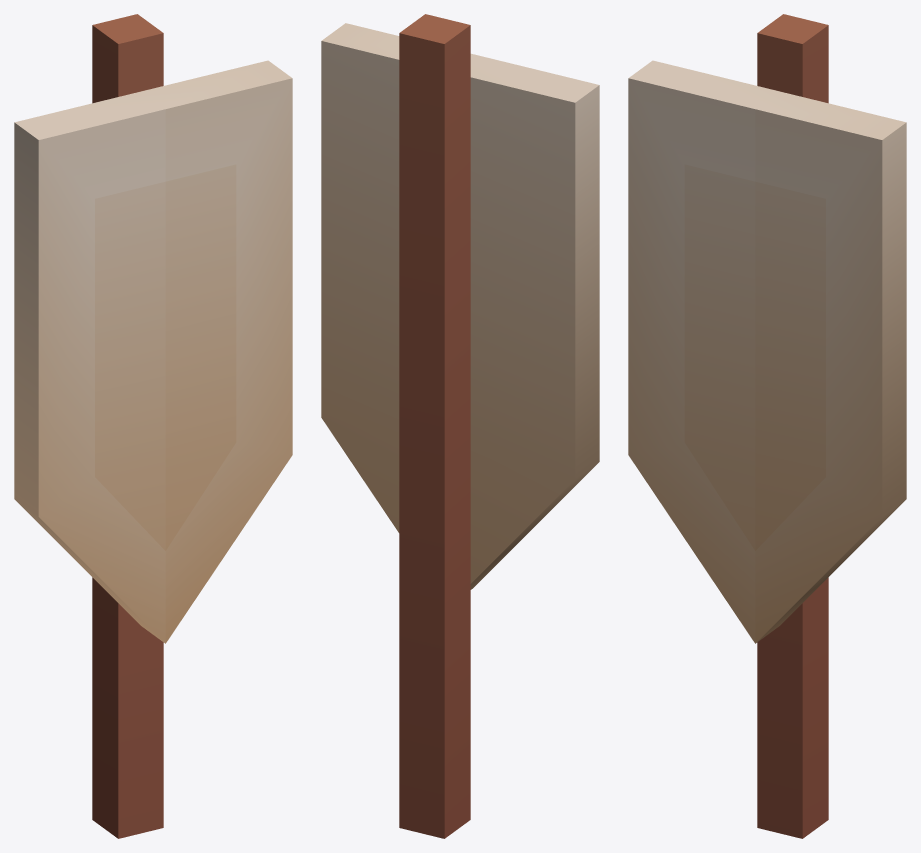
Rendered from banner.glb.
3 renders of one model, left to right at view 1: azimuth 30°, elevation 25°; view 2: azimuth 150°, elevation 25°; view 3: azimuth 330°, elevation 25°, orthographic.
Visible parts, largest first — view 1: banner; view 2: banner; view 3: banner.
Boxes of the visible parts, x1,y1,x2,y2 form: banner: (14, 14, 292, 838); banner: (321, 14, 599, 838); banner: (628, 14, 906, 838).
Bounding box in the file's own units: 0.1671 × 0.5 × 0.0579.
Materials: 1 (1 with a texture image).
